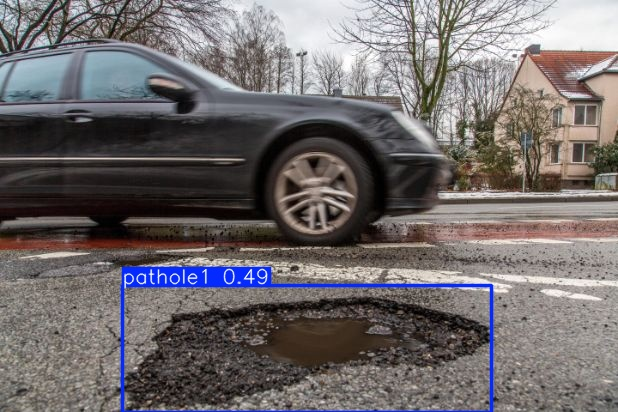pothole: (125, 295, 496, 410)
